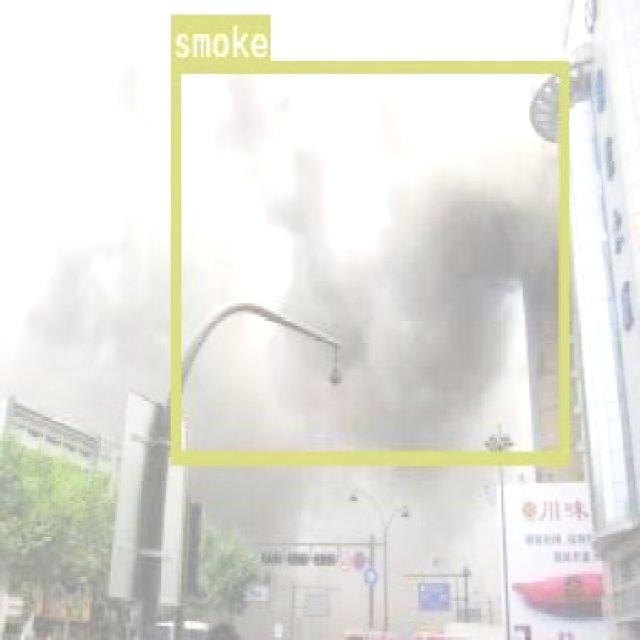smoke: (169, 58, 566, 460)
